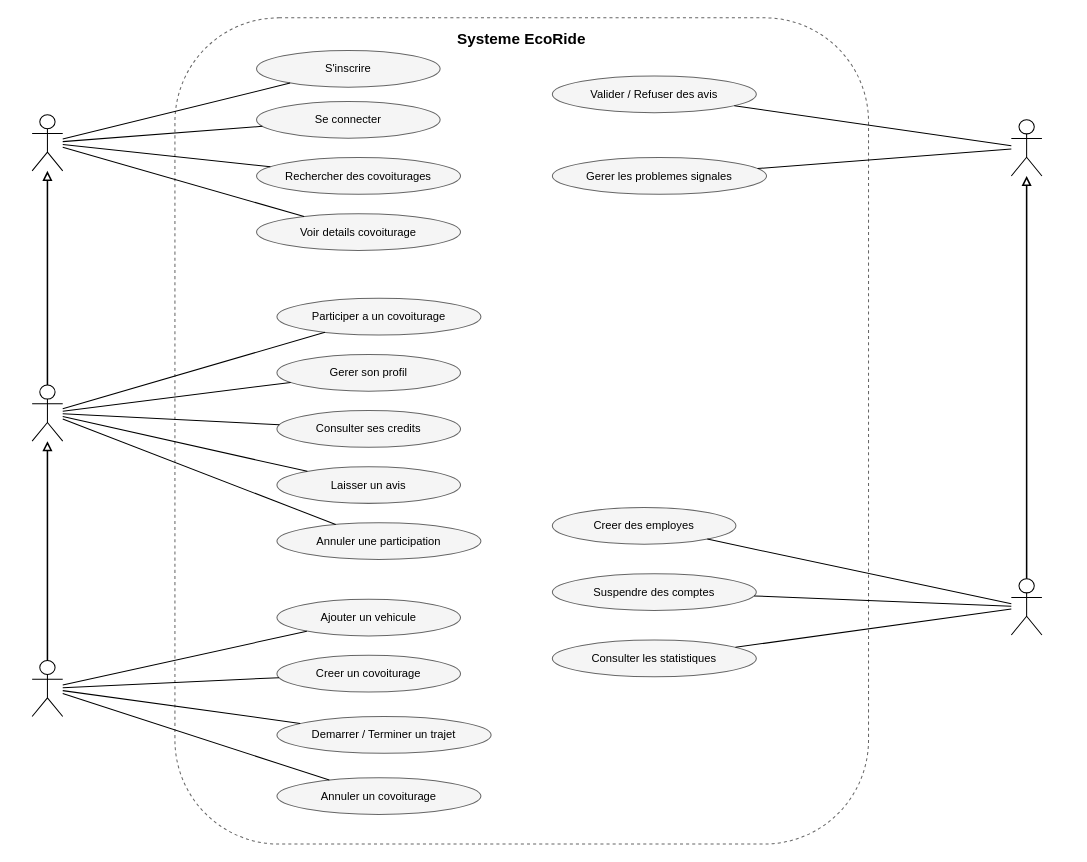
The diagram is 1087 pixels wide and 862 high, and some of its shapes have lost their labels. Here are the shapes that lost their labels. From the top down, the centre of each, then its label:
At pixel 47 142: "Visiteur".
At pixel 1026 147: "Employe".
At pixel 47 412: "Utilisateur".
At pixel 1026 606: "Administrateur".
At pixel 47 688: "Chauffeur".
